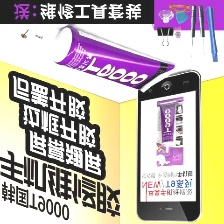phone: (133, 66, 206, 224)
